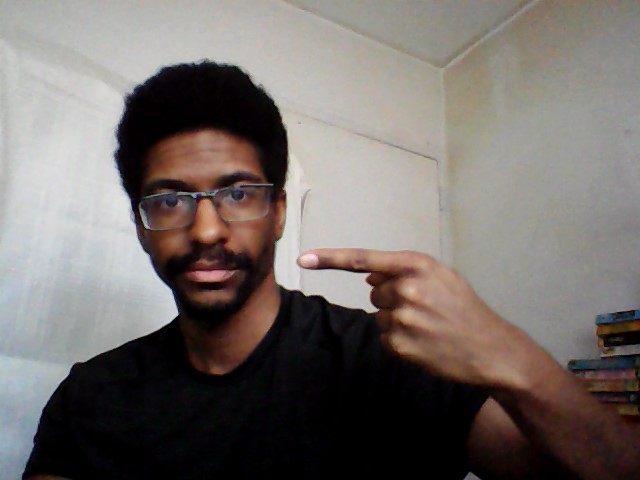g: (294, 241, 520, 392)
